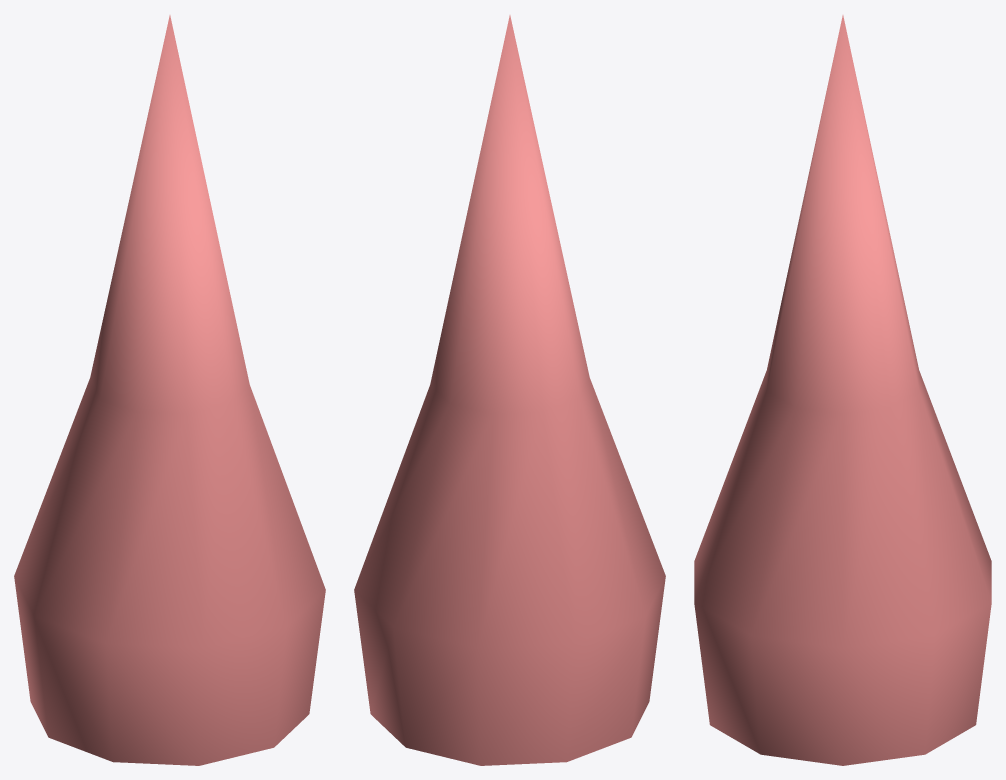
Rendered from mush_piece_03.gltf.
The picture shows the model from 3 angles, left to right: view 1: azimuth 30°, elevation 25°; view 2: azimuth 150°, elevation 25°; view 3: azimuth 270°, elevation 25°; orthographic projection.
Visible parts, largest first — view 1: mush_piece_03; view 2: mush_piece_03; view 3: mush_piece_03.
Part boxes in pixels (bbox=[...]): mush_piece_03: bbox=[14, 15, 325, 765]; mush_piece_03: bbox=[354, 15, 665, 765]; mush_piece_03: bbox=[694, 15, 991, 765].
Size of the model in its own units: 0.7451 by 1.82 by 0.7086.
